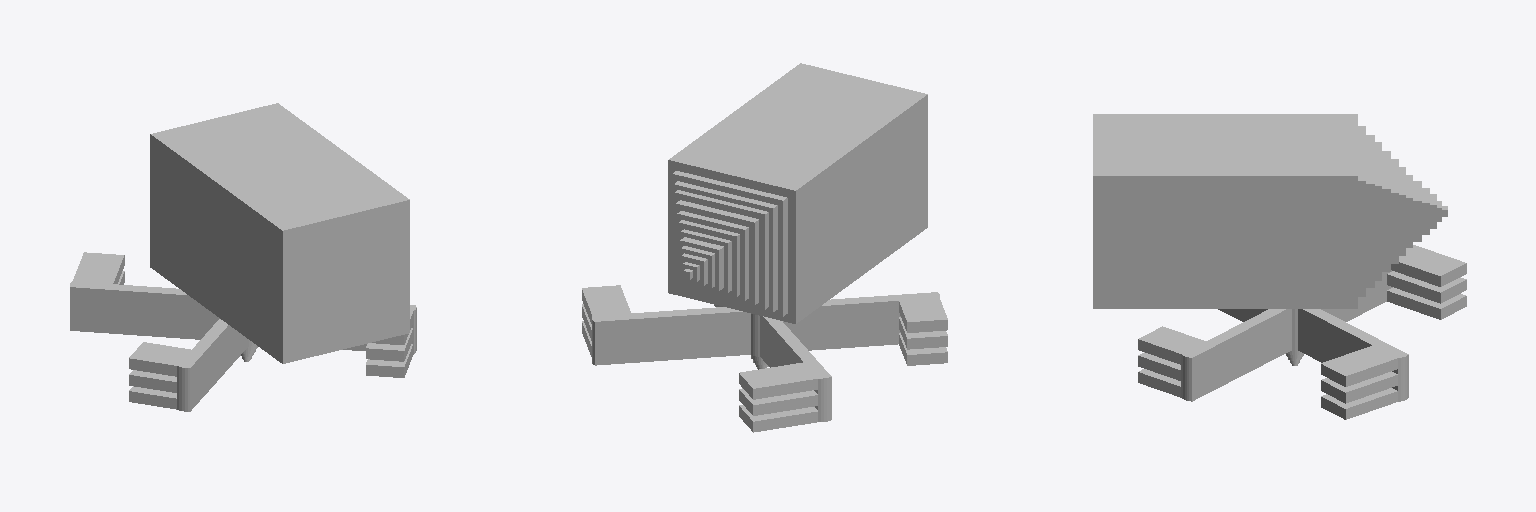
Rendered from Muzeum_1.obj.
3 renders of one model, left to right at view 1: azimuth 30°, elevation 25°; view 2: azimuth 150°, elevation 25°; view 3: azimuth 270°, elevation 25°, orthographic.
Visible parts, largest first — view 1: Cube.001; view 2: Cube.001; view 3: Cube.001.
Part boxes in pixels (x1,y1,x2,y2): Cube.001: (70, 103, 416, 411); Cube.001: (582, 63, 947, 432); Cube.001: (1093, 114, 1466, 419).
Bounding box in the file's own units: 0.075 × 0.0512 × 0.0789.